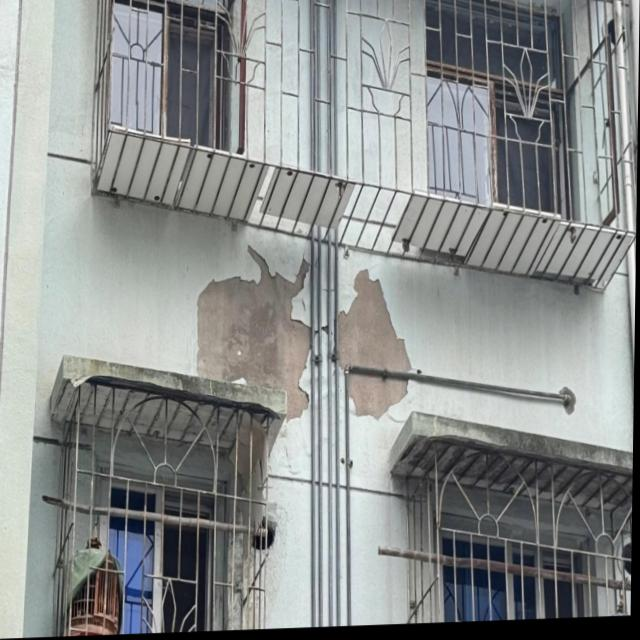mildew: (65, 355, 286, 414), (414, 413, 631, 470)
spalling: (183, 237, 311, 434), (339, 262, 426, 425)
